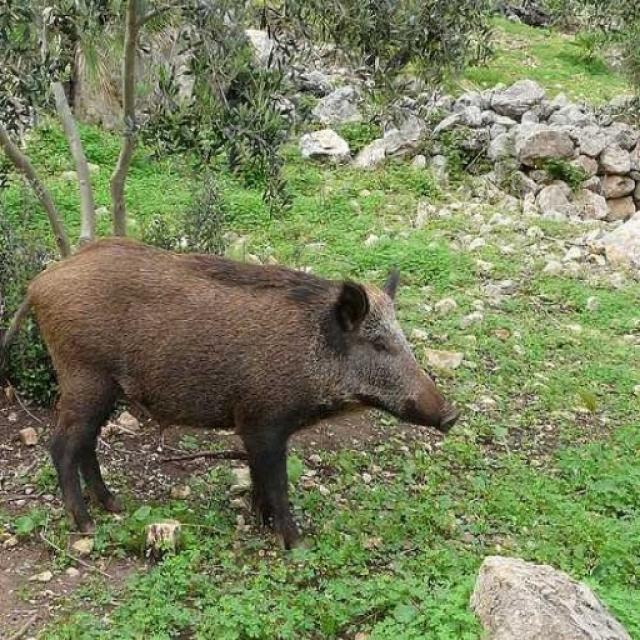pig: (0, 198, 511, 606)
